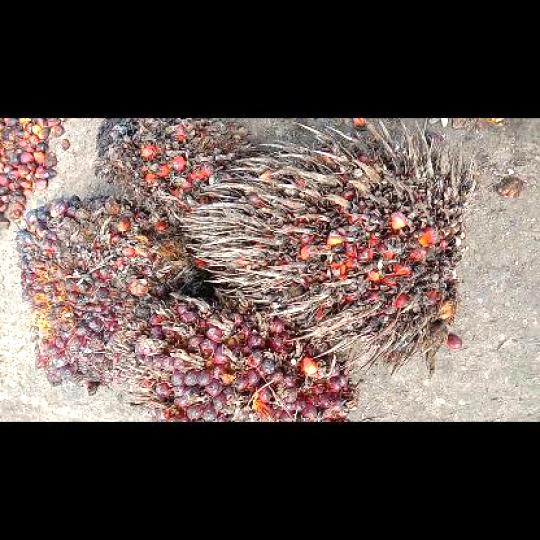masak: (14, 195, 204, 394), (113, 288, 357, 421)
terlalu masak: (180, 120, 476, 373), (92, 118, 253, 217)
